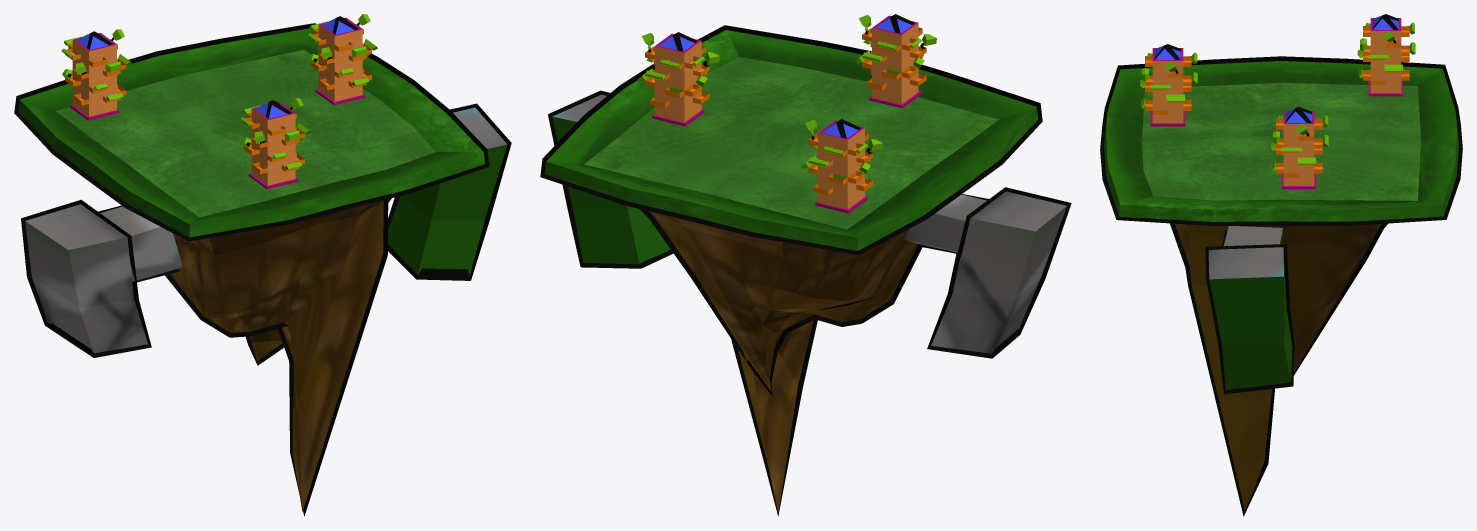
Rendered from terain with solarpunk buildings smaller.fbx.
3 views of the same model, side by side, from view 1: azimuth 30°, elevation 25°; view 2: azimuth 150°, elevation 25°; view 3: azimuth 270°, elevation 25° (orthographic). The views are drawn at different scales.
Visible parts, largest first — view 1: Plane, Plane.004, Plane.002, Plane.003; view 2: Plane, Plane.002, Plane.004, Plane.003; view 3: Plane, Plane.002, Plane.004, Plane.003.
Boxes of the visible parts, x1,y1,x2,y2 form: Plane: (14, 23, 511, 516); Plane.004: (240, 98, 310, 189); Plane.002: (307, 14, 377, 105); Plane.003: (61, 29, 131, 120); Plane: (540, 25, 1071, 516); Plane.002: (637, 32, 719, 126); Plane.004: (854, 14, 936, 108); Plane.003: (801, 119, 883, 213); Plane: (1100, 56, 1462, 516); Plane.002: (1271, 107, 1328, 189); Plane.004: (1140, 44, 1197, 126); Plane.003: (1357, 14, 1415, 96).
Size of the model in its own units: 1292 by 1246 by 930.
3 materials, 2 textured.
